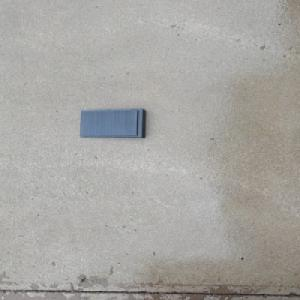PlasticPart: (78, 107, 147, 138)
